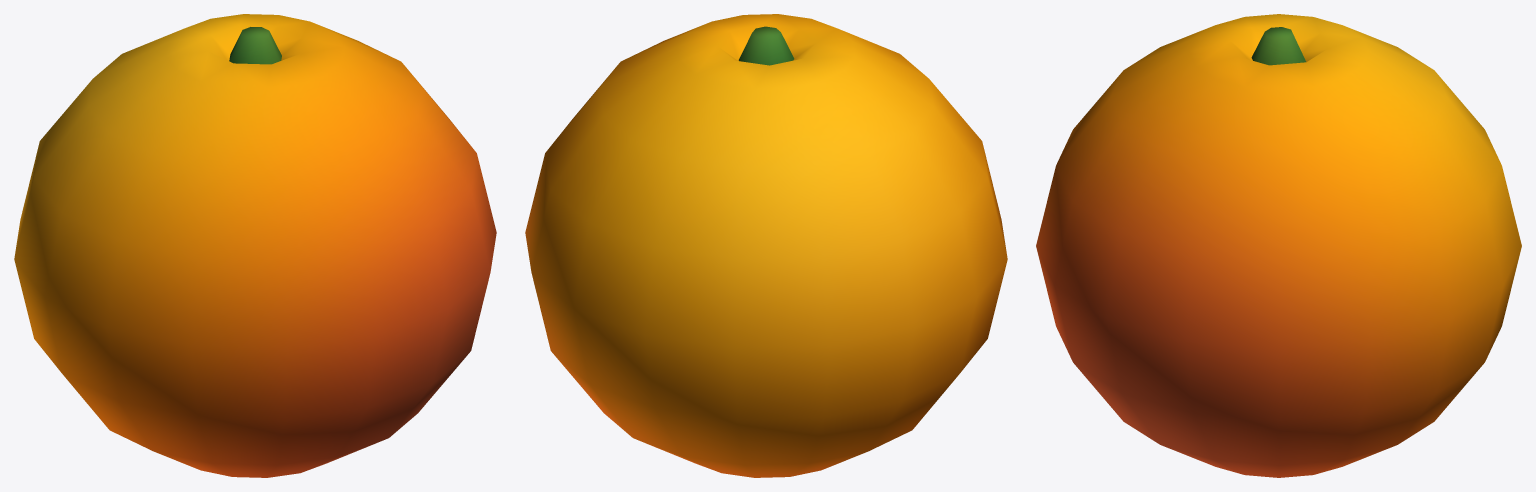
Rendered from orange_001.fbx.
3 views of the same model, side by side, from view 1: azimuth 30°, elevation 25°; view 2: azimuth 150°, elevation 25°; view 3: azimuth 270°, elevation 25° (orthographic).
Visible parts, largest first — view 1: orange_001; view 2: orange_001; view 3: orange_001.
Part boxes in pixels (bbox=[...]): orange_001: bbox=[14, 14, 496, 477]; orange_001: bbox=[525, 14, 1007, 477]; orange_001: bbox=[1036, 14, 1521, 477].
Size of the model in its own units: 10.98 by 10.98 by 10.55.
